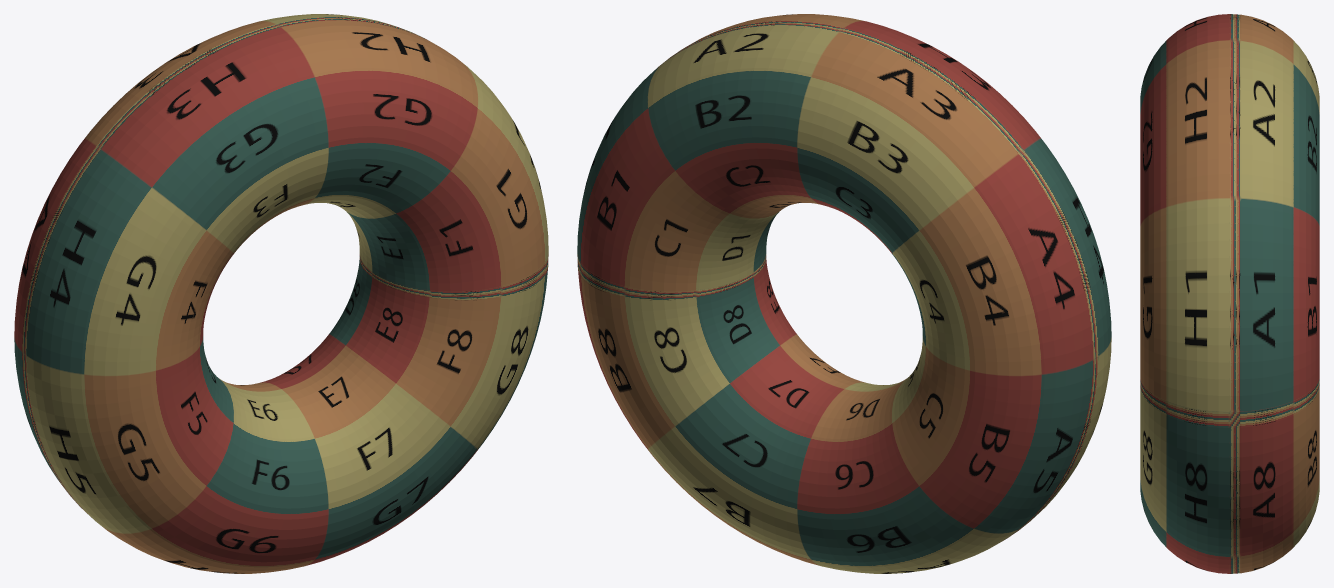
Rendered from texture_torus_R5_r9.glb.
The picture shows the model from 3 angles, left to right: view 1: azimuth 30°, elevation 25°; view 2: azimuth 150°, elevation 25°; view 3: azimuth 270°, elevation 25°; orthographic projection. The views are drawn at different scales.
Parts seen in each view (by area): view 1: world; view 2: world; view 3: world.
Part boxes in pixels (x1,y1,x2,y2): world: (14, 14, 548, 573); world: (577, 14, 1111, 573); world: (1140, 14, 1319, 573).
Bounding box in the file's own units: 31.11 × 31.11 × 9.98.
Materials: 1 (1 with a texture image).
